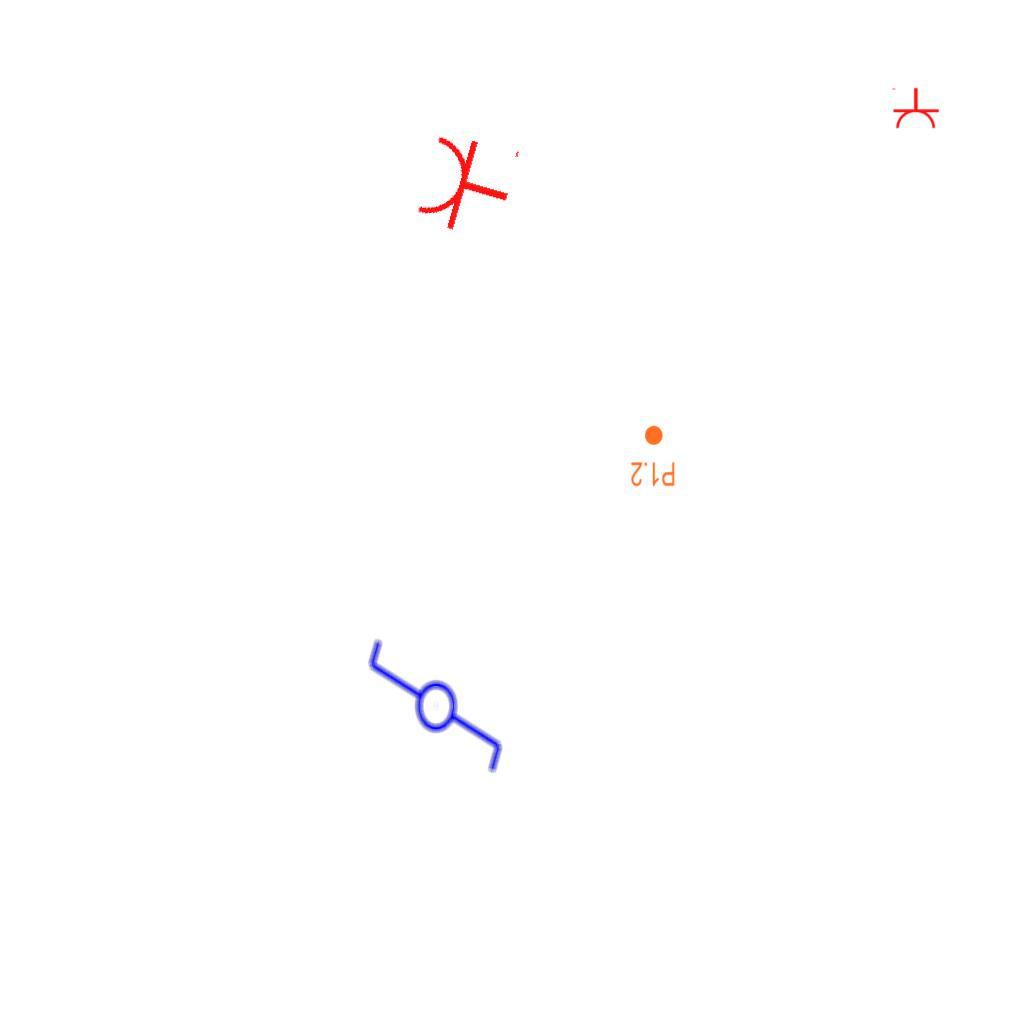Downlight_LED_Einbauleuchten_Flur: (630, 424, 676, 488)
Schukosteckdose_einfach: (411, 123, 524, 245), (890, 87, 940, 130)
Wechselschalter: (362, 636, 506, 793)
